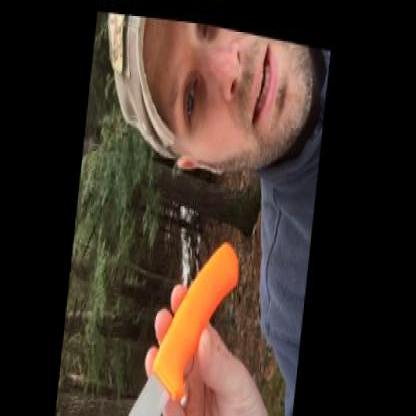knife: (77, 322, 205, 414)
